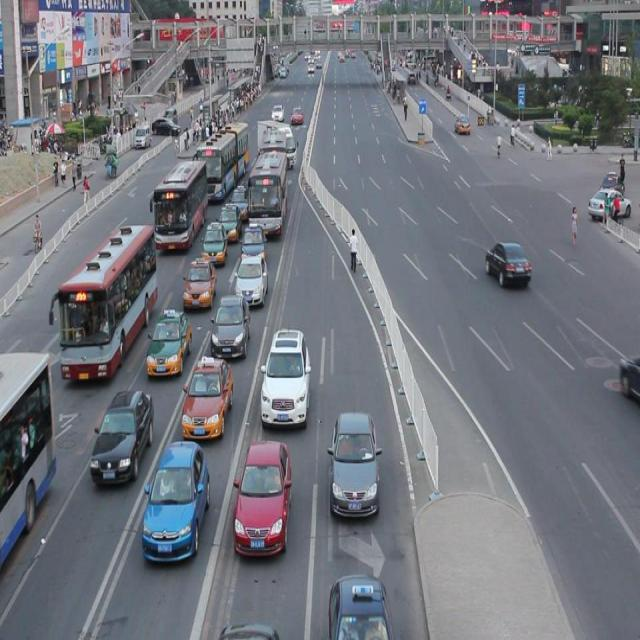bus: (257, 120, 298, 168)
car: (144, 440, 211, 561), (233, 442, 291, 552), (91, 388, 155, 481), (328, 411, 381, 517), (263, 327, 309, 421), (183, 357, 233, 437), (328, 575, 388, 640), (146, 308, 192, 372), (210, 295, 251, 356), (484, 242, 529, 287), (182, 258, 216, 310), (235, 256, 269, 302), (586, 188, 630, 219), (202, 220, 228, 262), (618, 352, 640, 398), (240, 224, 266, 262), (217, 203, 241, 240), (228, 184, 248, 220), (454, 114, 470, 136)
van: (50, 223, 157, 377), (1, 353, 56, 567), (149, 160, 207, 250), (195, 125, 247, 200), (250, 150, 286, 232), (258, 130, 288, 182)
